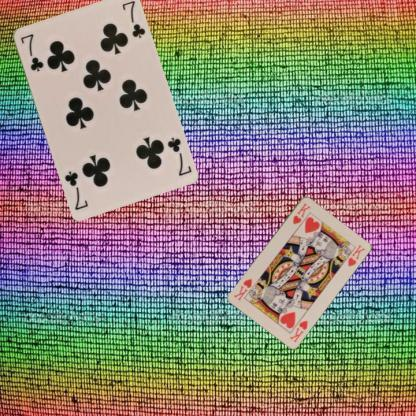7c: (164, 134, 192, 177), (18, 30, 44, 72)
Kh: (287, 317, 309, 344), (290, 200, 312, 225)
